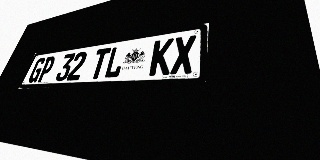2: (66, 51, 88, 81)
3: (54, 53, 76, 81)
G: (27, 57, 47, 83)
K: (148, 38, 174, 76)
L: (103, 45, 127, 79)
P: (36, 56, 57, 82)
T: (88, 47, 111, 79)
X: (170, 35, 196, 75)
